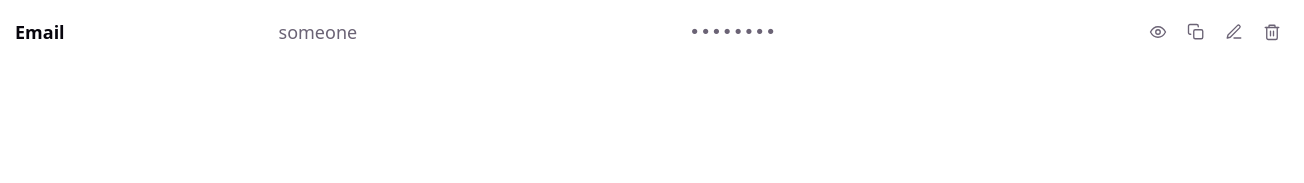
Test: PasswordItem › tells the user when the clipboard write is refused instead of looking successful
Click the button named "Copy password" at (1196, 32), box [1179, 15, 1213, 49]
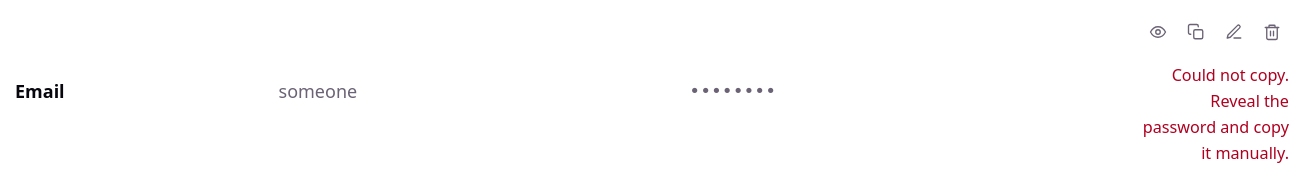
Now the text "Could not copy. Reveal the password and copy it manually." is shown, box [1141, 62, 1289, 167]
